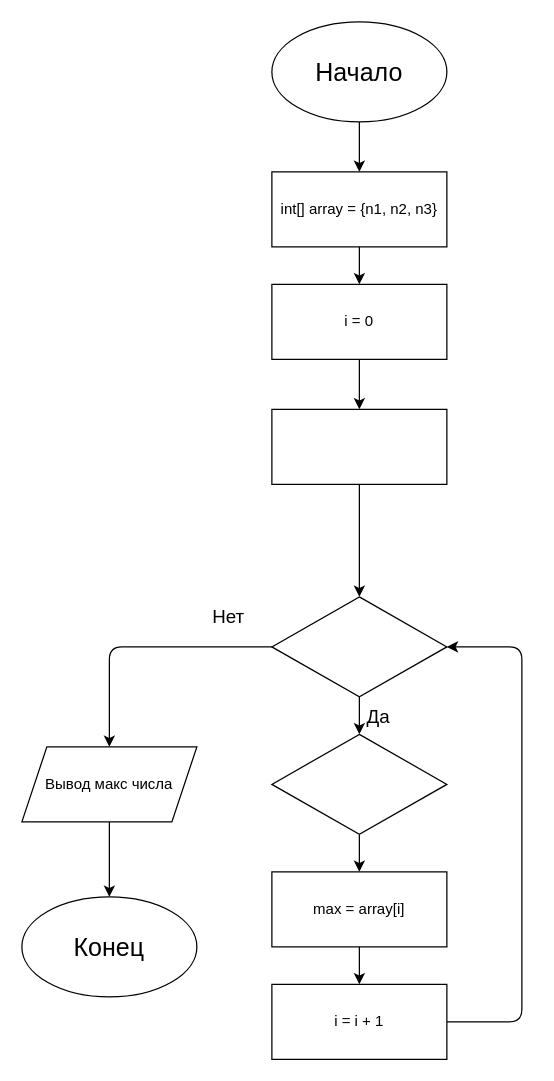
This 554x1081 diagram has some shape labels left out. Each missing label, with the box of its shape:
array[1] > max: (271, 733, 447, 834)
i < array.length: (271, 596, 447, 697)
int max = array[0]: (271, 408, 447, 484)
